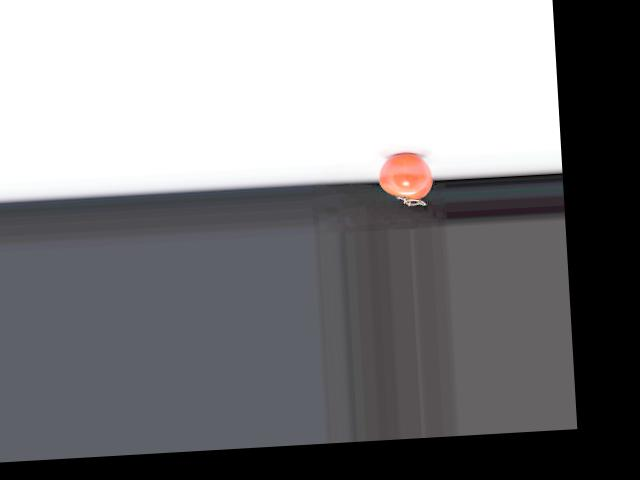tomato: (376, 151, 433, 201)
